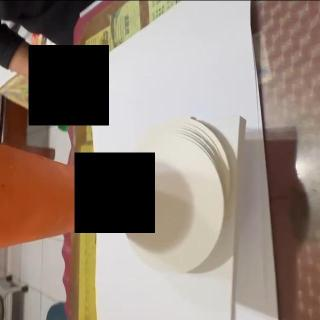carrot: (0, 140, 124, 252)
